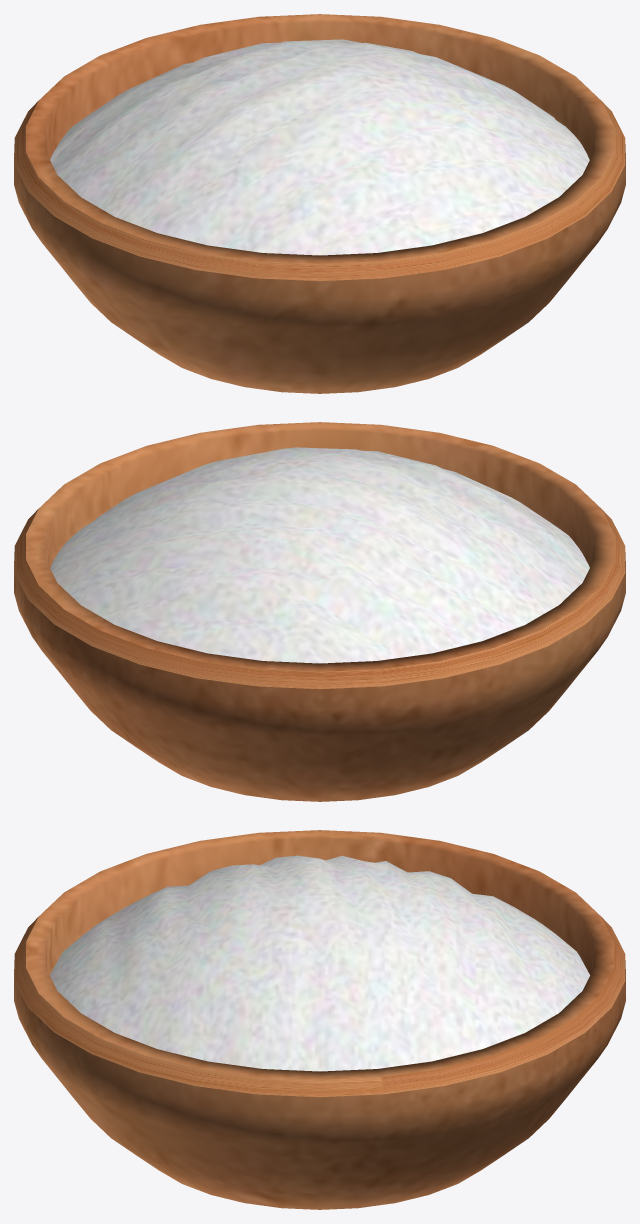
Rendered from sal.fbx.
The picture shows the model from 3 angles, top to bottom: view 1: azimuth 30°, elevation 25°; view 2: azimuth 150°, elevation 25°; view 3: azimuth 270°, elevation 25°; orthographic projection.
Visible parts, largest first — view 1: pCylinder1, polySurface2; view 2: pCylinder1, polySurface2; view 3: pCylinder1, polySurface2.
Boxes of the visible parts, <box> form: pCylinder1: <box>14,14,625,393</box>; polySurface2: <box>50,39,589,255</box>; pCylinder1: <box>14,422,625,801</box>; polySurface2: <box>50,447,589,663</box>; pCylinder1: <box>14,830,625,1209</box>; polySurface2: <box>50,855,589,1071</box>.
Bounding box in the file's own units: 0.0193 × 0.00836 × 0.0192.
Materials: 2 (2 with a texture image).
